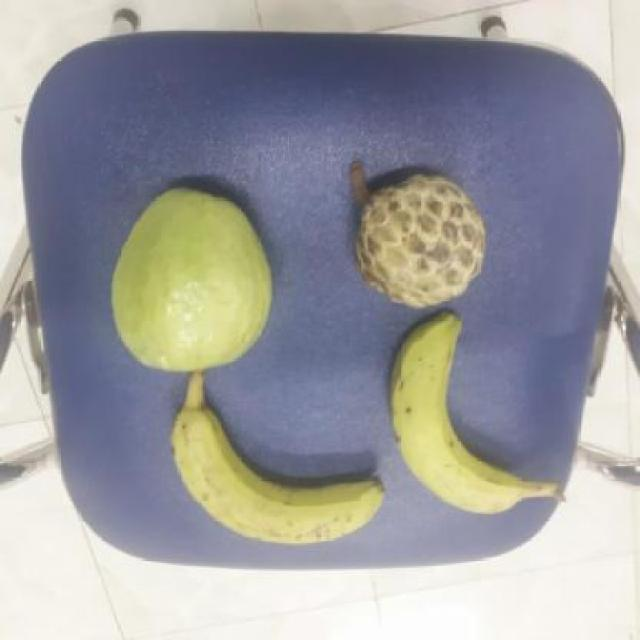banana: (164, 404, 388, 551), (382, 308, 522, 517)
guava: (108, 183, 275, 374)
sugar apple: (349, 172, 493, 310)
